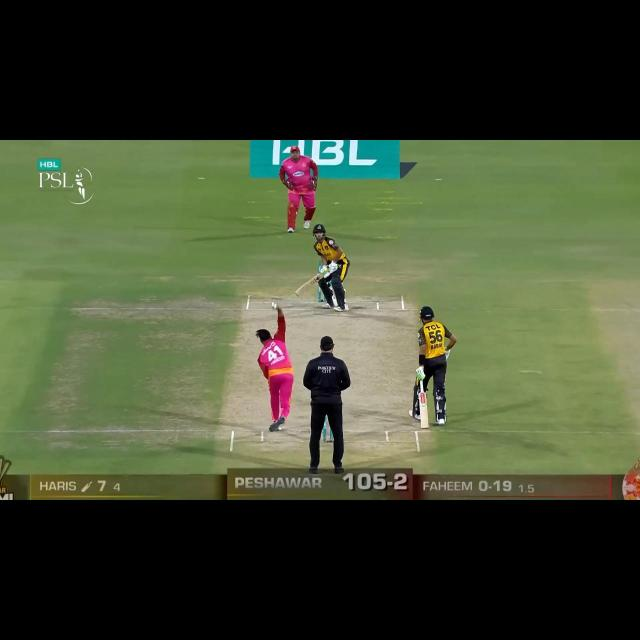bat: (294, 274, 326, 298), (419, 389, 428, 430)
toe: (294, 290, 300, 298), (420, 424, 429, 429)
